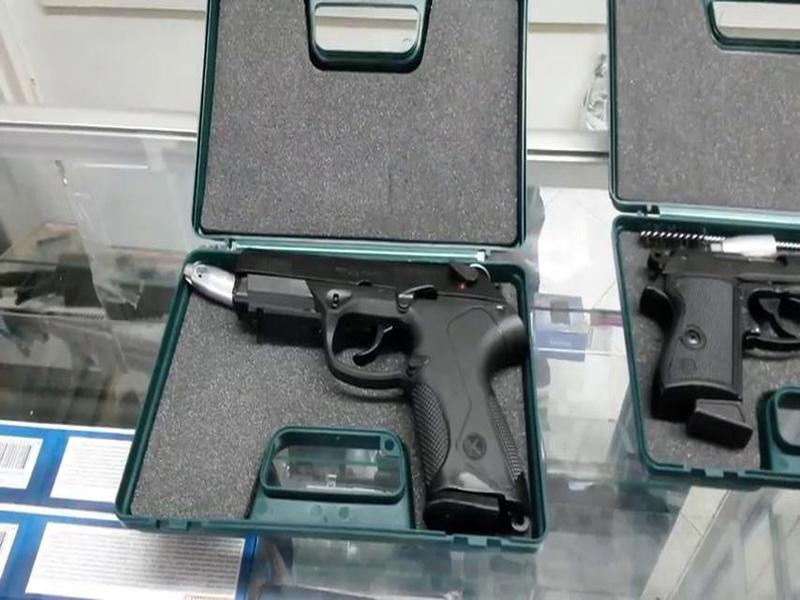Pistola: (221, 232, 545, 526)
